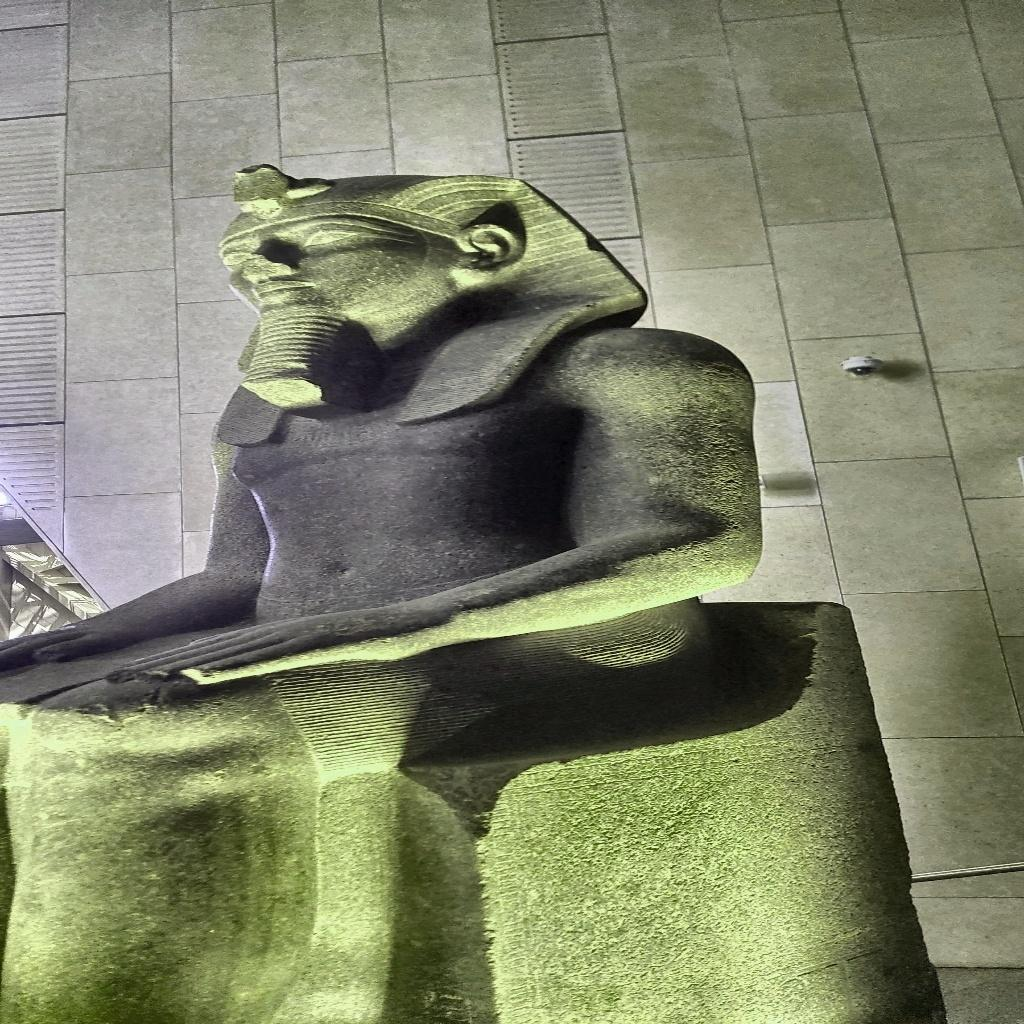Seated Statue of Amenhotep III: (8, 160, 878, 1019)
